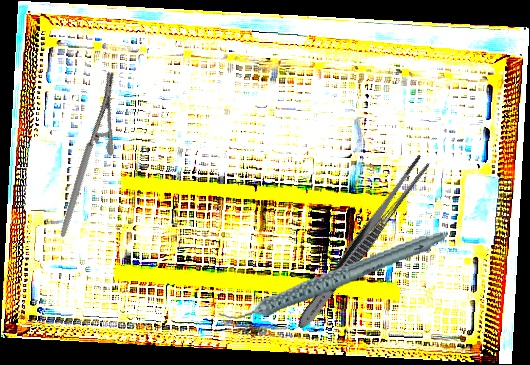Dressing Forceps: (292, 152, 432, 334)
Handpiece: (210, 229, 454, 324)
Needle Holder: (13, 68, 160, 239)
